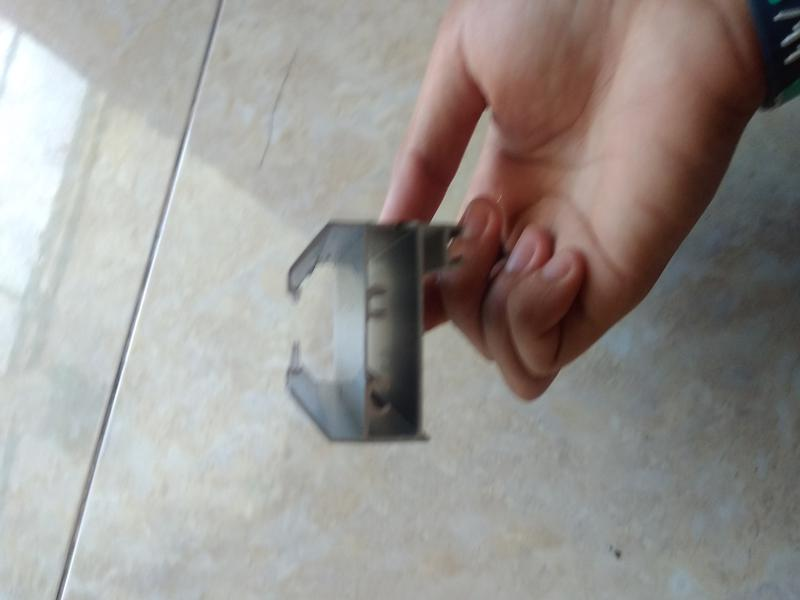Aluminium_3: (262, 201, 478, 465)
